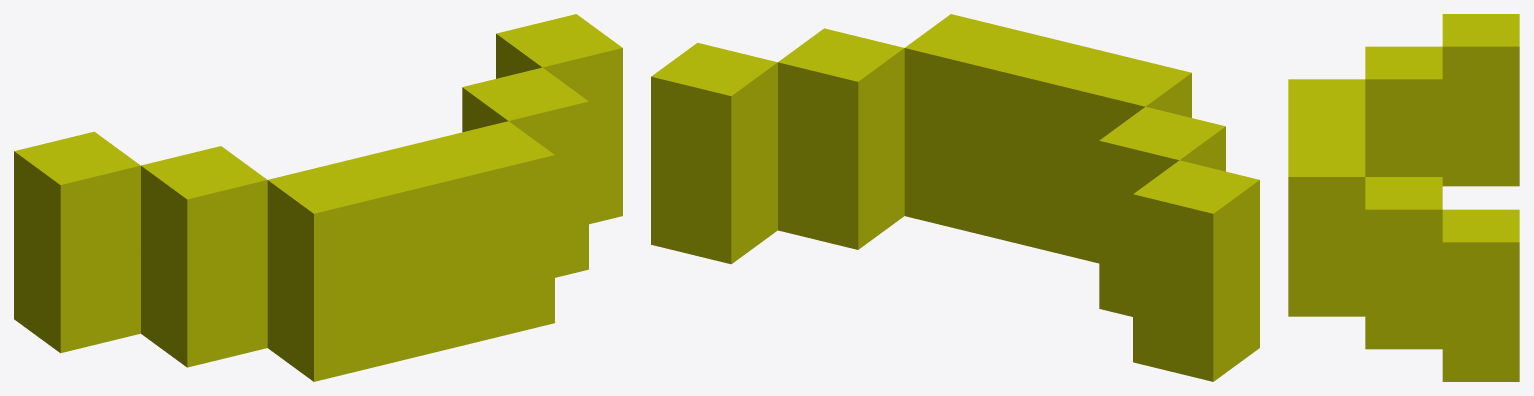
File: attack.fbx
3 views of the same model, side by side, from view 1: azimuth 30°, elevation 25°; view 2: azimuth 150°, elevation 25°; view 3: azimuth 270°, elevation 25° (orthographic). The views are drawn at different scales.
Visible parts, largest first — view 1: Box011, Box012, Box014, Box004, Box005, Box007, Box009, Box008, Box013, Box010, Box001, Box002 (+2 smaller); view 2: Box014, Box010, Box013, Box007, Box003, Box006, Box009, Box008, Box011, Box012, Box002, Box001 (+2 smaller); view 3: Box009, Box010, Box012, Box014, Box013, Box003, Box007, Box002, Box006, Box008, Box011, Box005.
Boxes of the visible parts, box(x1,y1,x2,y2) form: Box011: box(267, 160, 394, 297); Box012: box(141, 146, 267, 283); Box014: box(14, 131, 140, 268); Box004: box(267, 264, 394, 381); Box005: box(141, 250, 267, 367); Box007: box(14, 235, 140, 353); Box009: box(428, 121, 554, 258); Box008: box(348, 141, 474, 278); Box013: box(496, 14, 622, 139); Box010: box(462, 67, 588, 193); Box001: box(394, 259, 474, 362); Box002: box(474, 239, 554, 342); Box014: box(1133, 160, 1259, 297); Box010: box(778, 28, 904, 165); Box013: box(651, 42, 777, 180); Box007: box(1133, 264, 1259, 381); Box003: box(778, 132, 904, 249); Box006: box(651, 146, 777, 264); Box009: box(904, 14, 1030, 151); Box008: box(985, 33, 1111, 170); Box011: box(1065, 53, 1191, 179); Box012: box(1099, 106, 1225, 232); Box002: box(904, 132, 984, 235); Box001: box(985, 151, 1065, 254); Box009: box(1288, 144, 1365, 246); Box010: box(1365, 177, 1442, 279); Box012: box(1365, 46, 1442, 148); Box014: box(1442, 14, 1519, 116); Box013: box(1442, 209, 1519, 311); Box003: box(1365, 279, 1442, 349); Box007: box(1442, 116, 1519, 186); Box002: box(1288, 247, 1365, 316); Box006: box(1442, 312, 1519, 381); Box008: box(1288, 111, 1365, 144); Box011: box(1288, 79, 1365, 111); Box005: box(1365, 149, 1442, 176).
Size of the model in its own units: 70 by 20 by 30.
